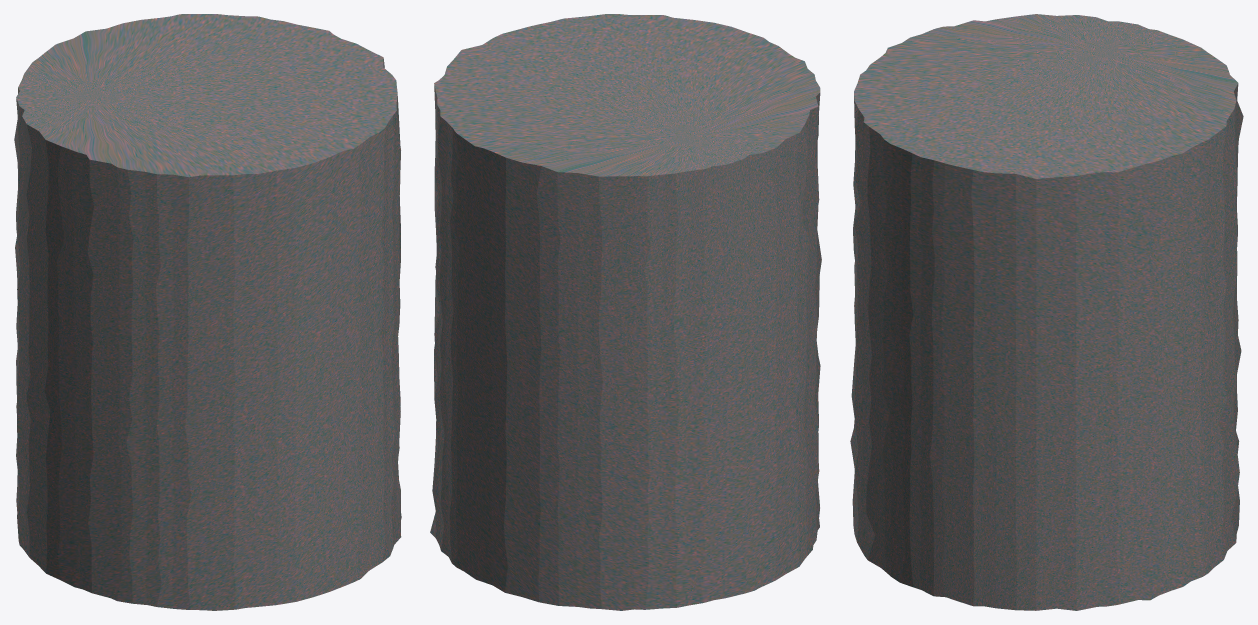
The model's file is barrel_24.dae.
3 renders of one model, left to right at view 1: azimuth 30°, elevation 25°; view 2: azimuth 150°, elevation 25°; view 3: azimuth 270°, elevation 25°, orthographic.
Parts seen in each view (by area): view 1: Cylinder; view 2: Cylinder; view 3: Cylinder.
Part boxes in pixels (bbox=[...]): Cylinder: bbox=[14, 14, 401, 610]; Cylinder: bbox=[430, 14, 821, 610]; Cylinder: bbox=[850, 14, 1243, 610].
Size of the model in its own units: 0.8175 by 0.8213 by 1.
Materials: 1 (1 with a texture image).
